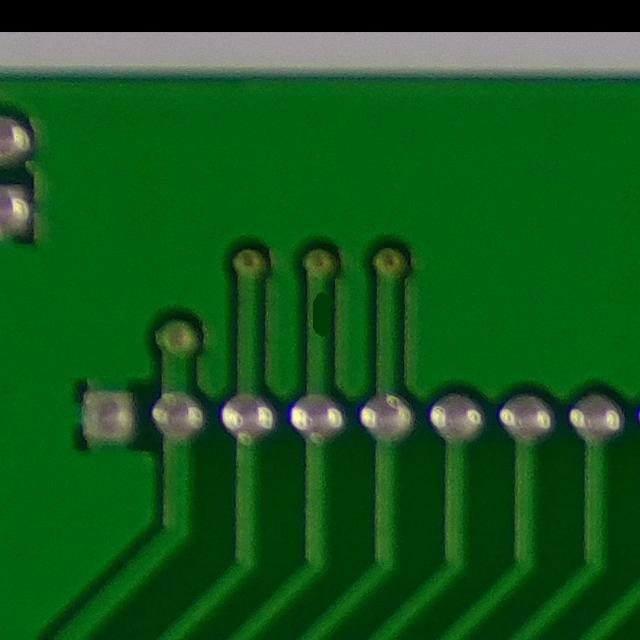mouse_bite: (301, 285, 340, 354)
